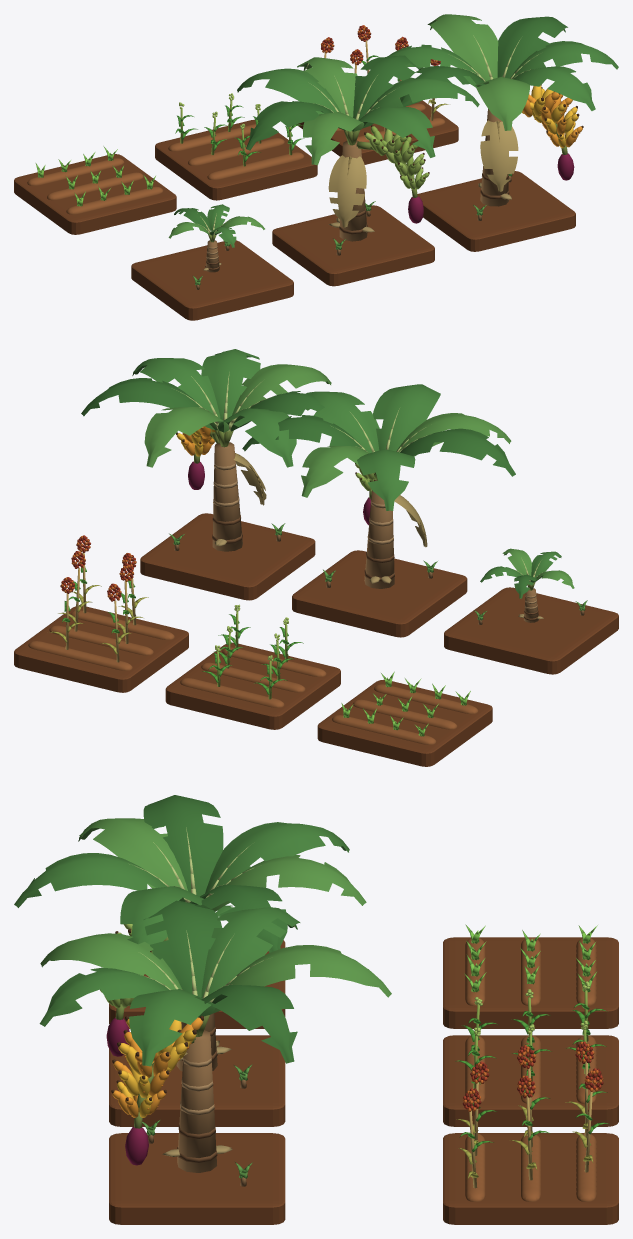
The model's file is cultures4.glb.
3 renders of one model, top to bottom at view 1: azimuth 30°, elevation 25°; view 2: azimuth 150°, elevation 25°; view 3: azimuth 270°, elevation 25°, orthographic. The views are drawn at different scales.
Visible parts, largest first — view 1: terre.003, terre.004, terre.005, terre, terre.001, feuille.021, feuille.026, feuille.025, feuille.023, feuille.022, feuille.027, feuille.024 (+16 smaller); view 2: terre.003, terre.004, terre.005, feuille.021, terre.002, terre.001, terre, feuille.025, feuille.026, feuille.023, feuille.027, feuille.022 (+13 smaller); view 3: terre.005, terre.002, terre, terre.001, feuille.025, feuille.021, terre.004, feuille.027, feuille.026, feuille.023, feuille.022, tronc.008 (+15 smaller).
Part boxes in pixels (x1,y1,x2,y2): terre.003: (131,240,293,320); terre.004: (272,205,434,286); terre.005: (417,171,575,251); terre: (14,154,176,234); terre.001: (155,119,317,200); feuille.021: (237,68,479,157); feuille.026: (427,14,529,130); feuille.025: (388,41,618,110); feuille.023: (246,55,422,150); feuille.022: (297,57,364,165); feuille.027: (400,16,567,106); feuille.024: (328,155,366,227); terre.003: (444,587,618,674); terre.004: (292,550,467,637); terre.005: (140,513,315,600); feuille.021: (305,384,440,510); terre.002: (14,606,188,692); terre.001: (165,642,340,729); terre: (317,679,492,766); feuille.025: (132,349,296,467); feuille.026: (144,364,331,467); feuille.023: (242,415,515,476); feuille.027: (81,378,324,431); feuille.022: (301,413,511,497); terre.005: (109,1133,285,1224); terre.002: (443,1133,618,1224); terre: (443,937,618,1028); terre.001: (443,1035,618,1126); feuille.025: (39,907,300,1066); feuille.021: (14,822,349,944); terre.004: (109,1035,285,1126); feuille.027: (143,900,297,1063); feuille.026: (40,933,391,1013); feuille.023: (143,795,287,952); feuille.022: (78,818,366,911); tronc.008: (177,1030,216,1172).
Bounding box in the file's own units: 7.83 × 2.87 × 6.53.
